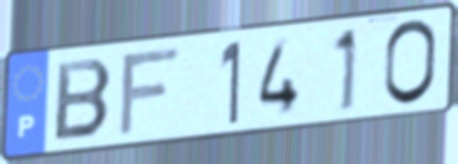1: (329, 25, 359, 114), (219, 37, 243, 127)
4: (256, 36, 304, 116)
B: (50, 57, 116, 145)
F: (115, 44, 184, 141)
O: (381, 17, 441, 109)
